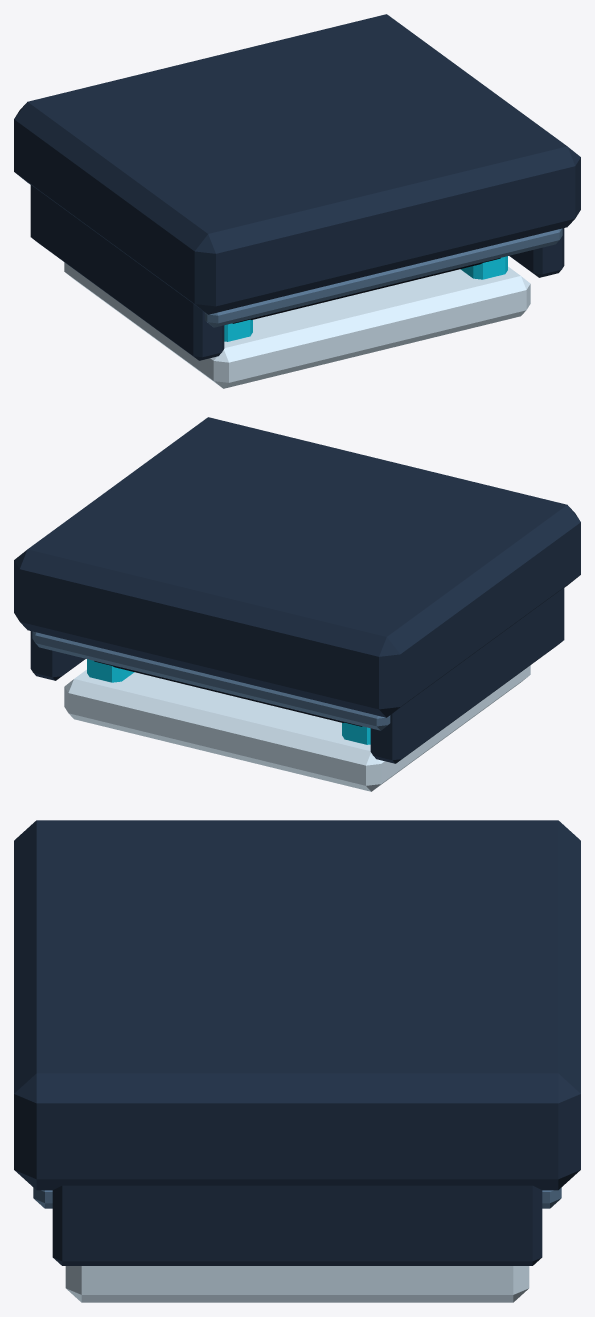
Rendered from prism_spring_pad_idle.obj.
The picture shows the model from 3 angles, top to bottom: view 1: azimuth 30°, elevation 25°; view 2: azimuth 150°, elevation 25°; view 3: azimuth 270°, elevation 25°; orthographic projection. The views are drawn at different scales.
Parts seen in each view (by area): view 1: PrismSpringPad_Idle; view 2: PrismSpringPad_Idle; view 3: PrismSpringPad_Idle.
Part boxes in pixels (<box>): PrismSpringPad_Idle: <box>14,14,580,388</box>; PrismSpringPad_Idle: <box>14,417,580,791</box>; PrismSpringPad_Idle: <box>14,820,580,1302</box>.
Bounding box in the file's own units: 1 × 0.4495 × 0.88.
Materials: 1 (1 with a texture image).
